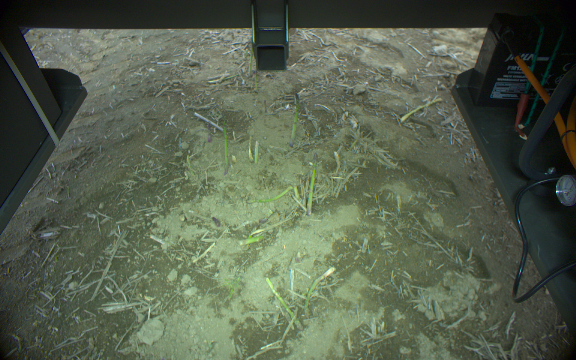aspa: (266, 277, 301, 329), (303, 265, 336, 318), (399, 96, 443, 125), (305, 151, 319, 213), (249, 185, 293, 203), (288, 93, 300, 146), (221, 118, 229, 177), (237, 232, 266, 248), (247, 43, 253, 77), (293, 183, 300, 201)
